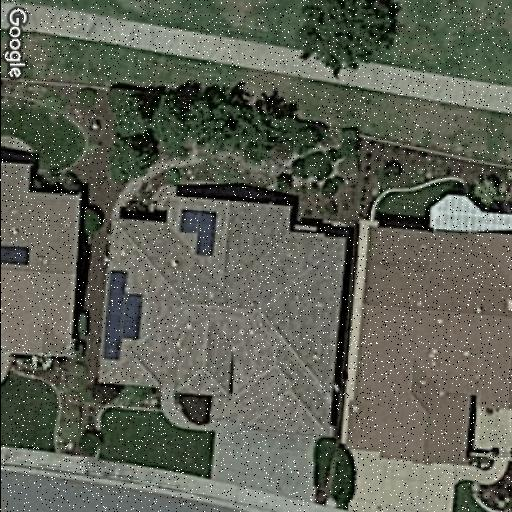solar-panel: (102, 266, 146, 364), (177, 205, 219, 259), (0, 242, 32, 270)
